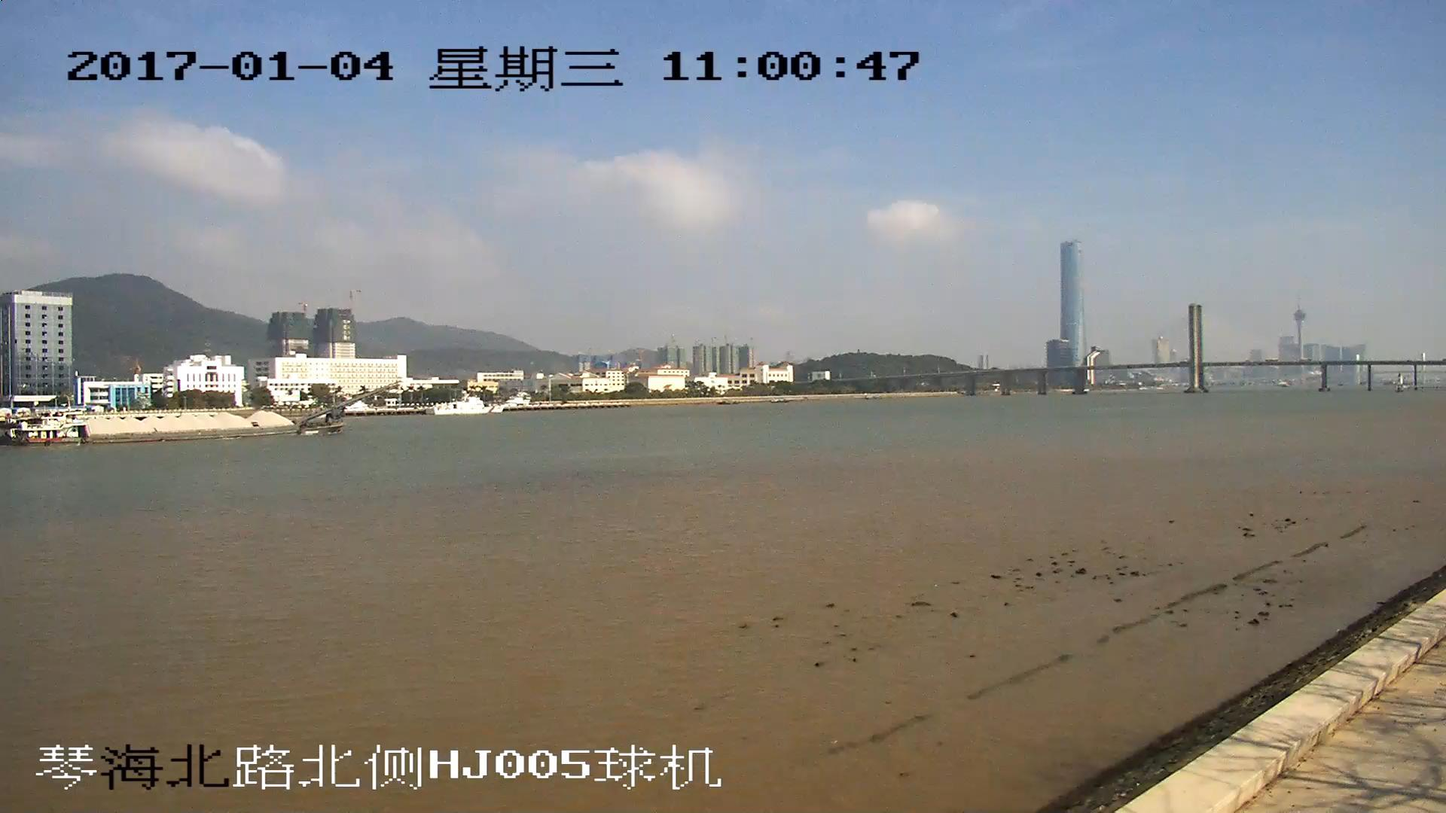ore carrier: (0, 380, 397, 445)
